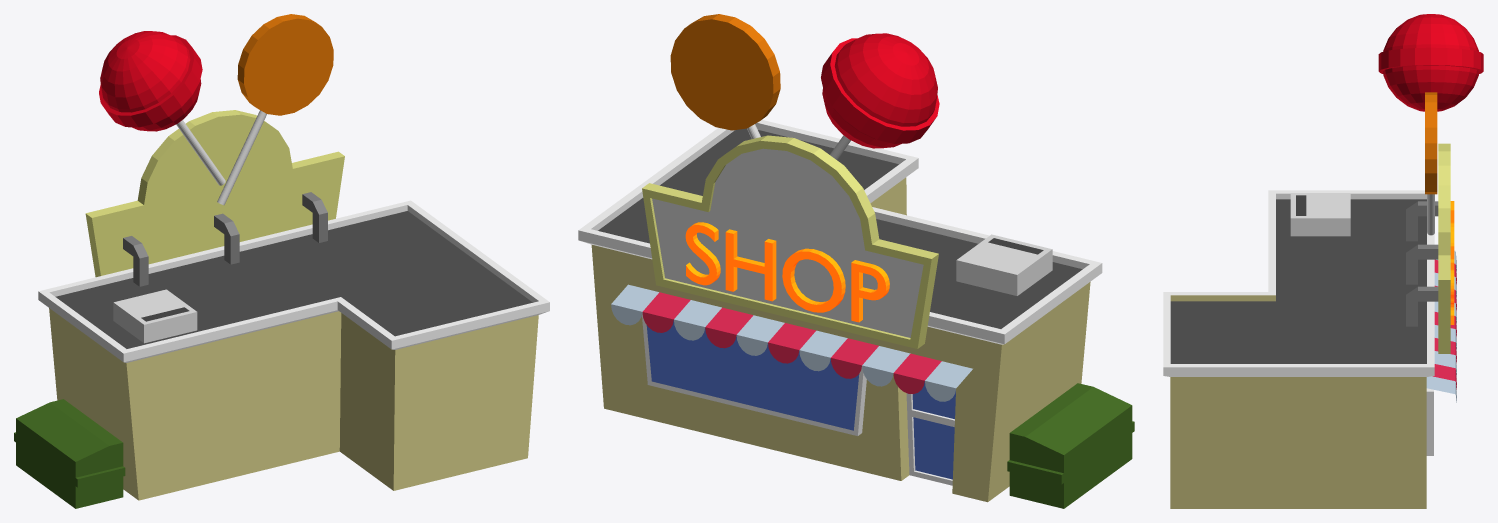
Rendered from shop-candy-b_night.glb.
3 renders of one model, left to right at view 1: azimuth 30°, elevation 25°; view 2: azimuth 150°, elevation 25°; view 3: azimuth 270°, elevation 25°, orthographic. The views are drawn at different scales.
Visible parts, largest first — view 1: Cube, Cube.001, Cylinder.003, Cube.003, Cylinder.002, Cube.002; view 2: Cube, Cube.001, Circle, Cube.003, Cylinder.003, Cylinder.002, sign_letters, Cube.002; view 3: Cube, Cylinder.003, Cube.001, Cube.002, Circle, Cylinder.002, sign_letters.
Boxes of the visible parts, x1=… form: Cube: x1=38, y1=200, x2=549, y2=500; Cube.001: x1=85, y1=110, x2=344, y2=286; Cylinder.003: x1=99, y1=31, x2=225, y2=185; Cube.003: x1=14, y1=399, x2=125, y2=508; Cylinder.002: x1=217, y1=14, x2=333, y2=205; Cube.002: x1=113, y1=289, x2=197, y2=343; Cube: x1=578, y1=120, x2=1102, y2=502; Cube.001: x1=642, y1=135, x2=938, y2=348; Circle: x1=611, y1=284, x2=972, y2=401; Cube.003: x1=1007, y1=383, x2=1134, y2=508; Cylinder.003: x1=821, y1=33, x2=939, y2=159; Cylinder.002: x1=670, y1=14, x2=780, y2=138; sign_letters: x1=685, y1=222, x2=889, y2=322; Cube.002: x1=956, y1=234, x2=1052, y2=295; Cube: x1=1163, y1=190, x2=1434, y2=508; Cylinder.003: x1=1378, y1=14, x2=1483, y2=111; Cube.001: x1=1406, y1=143, x2=1450, y2=353; Cube.002: x1=1290, y1=193, x2=1350, y2=236; Circle: x1=1426, y1=250, x2=1456, y2=402; Cylinder.002: x1=1425, y1=92, x2=1437, y2=235; sign_letters: x1=1450, y1=201, x2=1454, y2=324.
Bounding box in the file's own units: 6.1 × 5.47 × 4.24.
